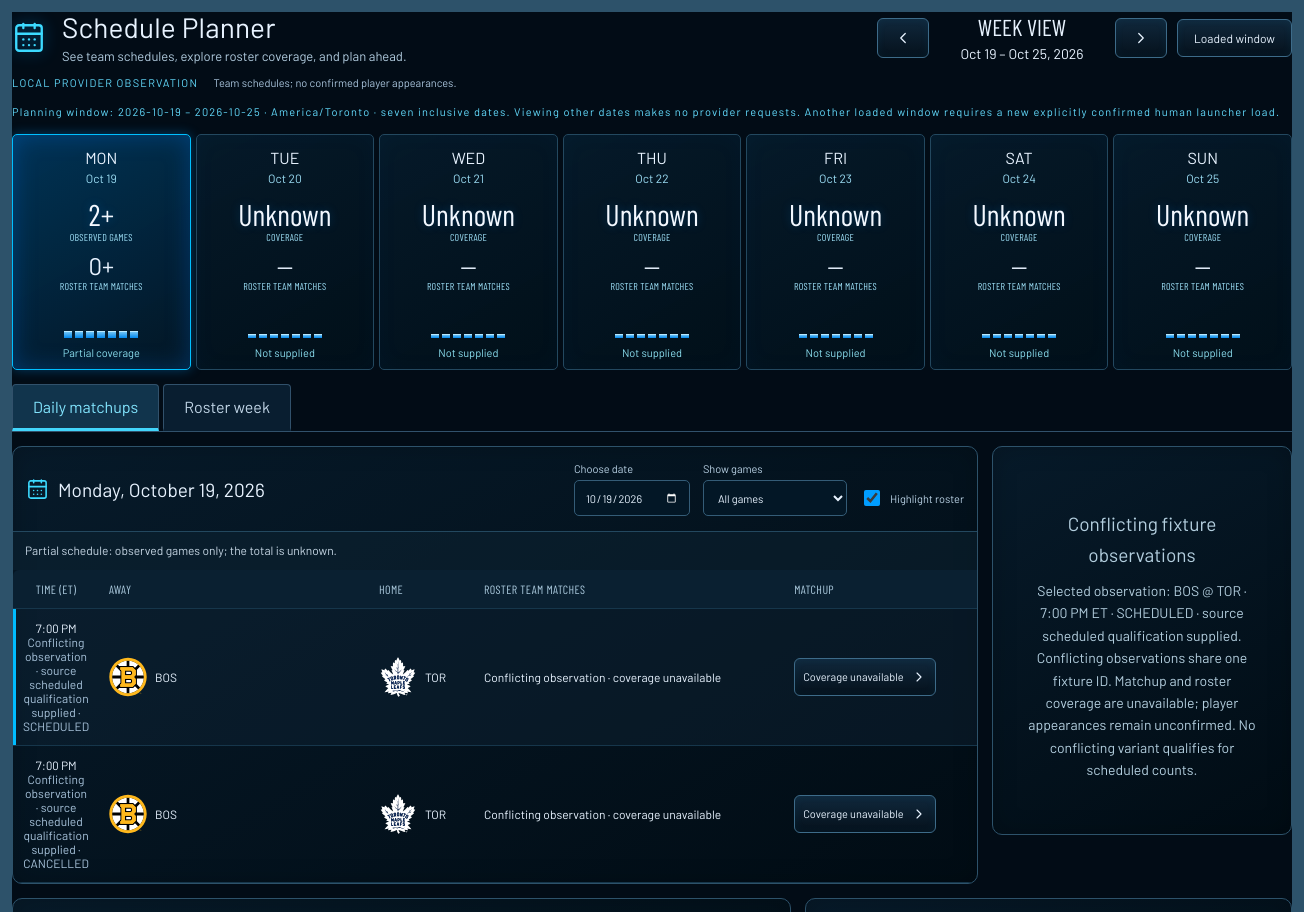
selects one conflicting state variant without presenting arbitrary matchup details
Click the button with aria-label "Select" at (865, 814), box x1=794 y1=795 x2=936 y2=833
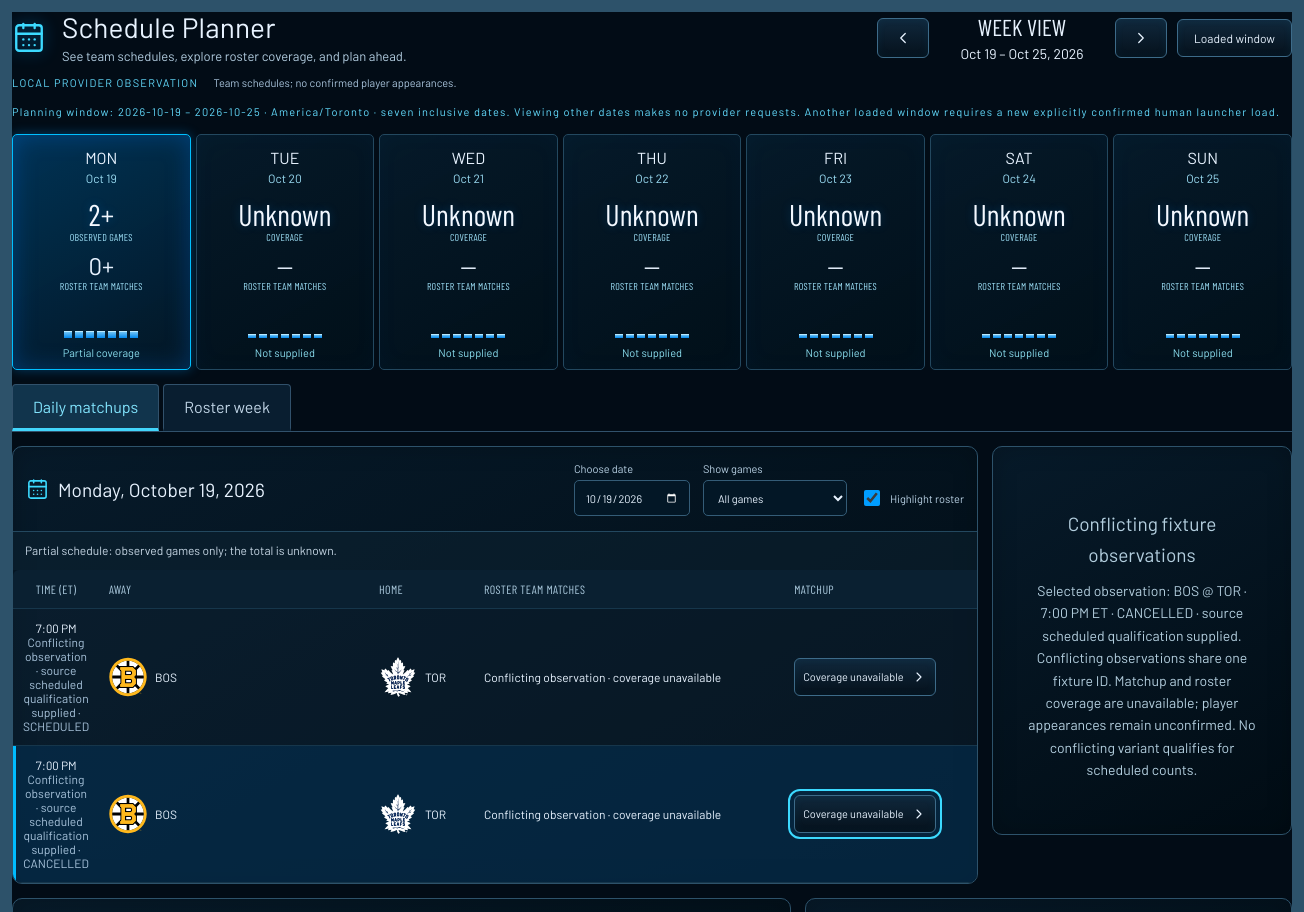
Check: the heading "Conflicting fixture observations" is shown, box x1=1068 y1=512 x2=1216 y2=566
Check: the text "CANCELLED" is shown, box x1=1117 y1=604 x2=1193 y2=622
